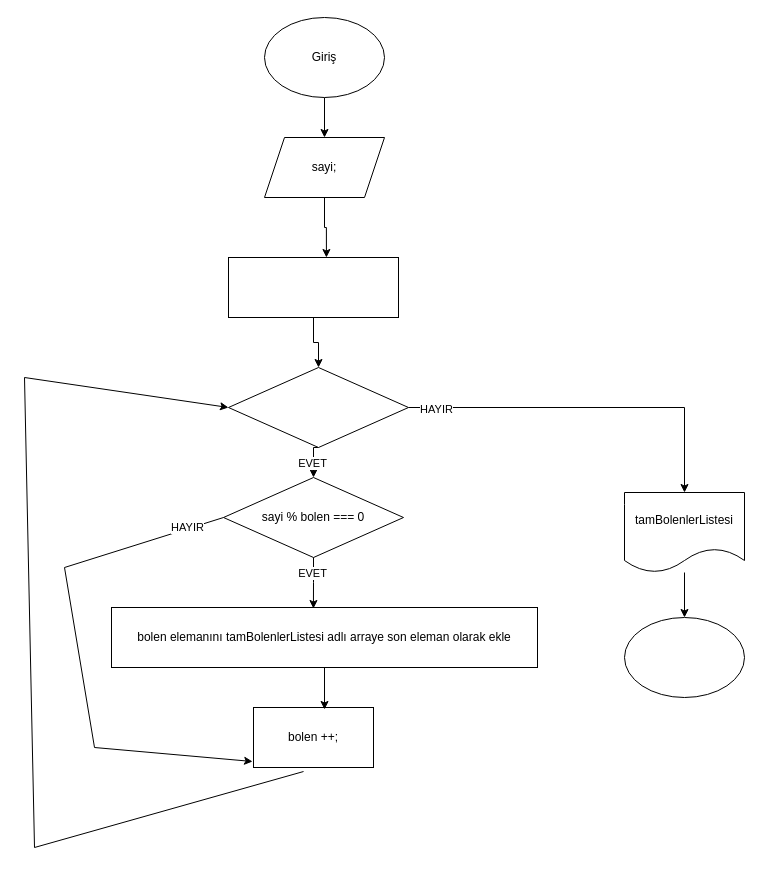
Some shapes in this 762 by 873 pixel diagram are drawn without their labels. The centre of each missing label's shape, as x and y in pixels:
Bitiş: [684,657]
sayi >= bolen: [318,407]
tamBolenlerListesi = [ ] bolen = 1;: [313,287]
